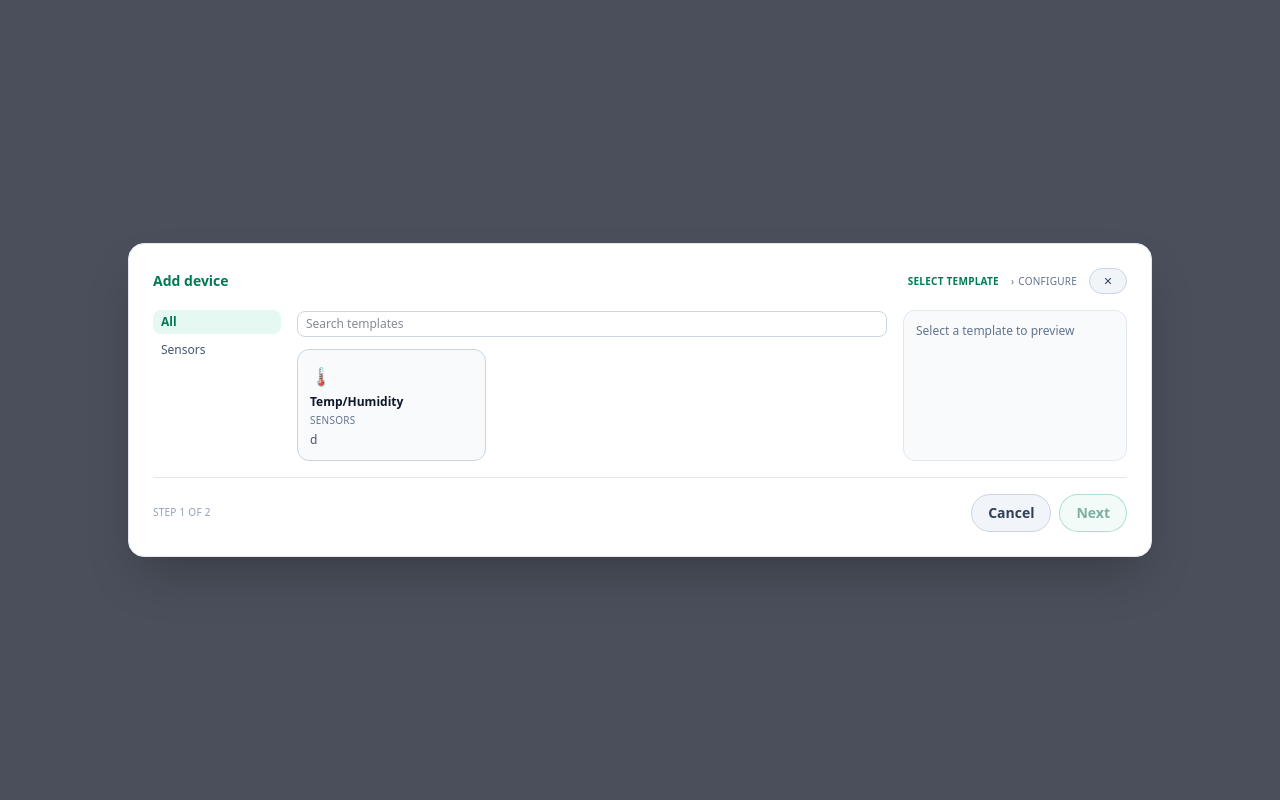
Test: AddDeviceModal wizard › blocks Create in configure when the name is cleared
This screenshot has width=1280, height=800.
Click the text "Temp/Humidity": (357, 402) [310, 393, 403, 410]
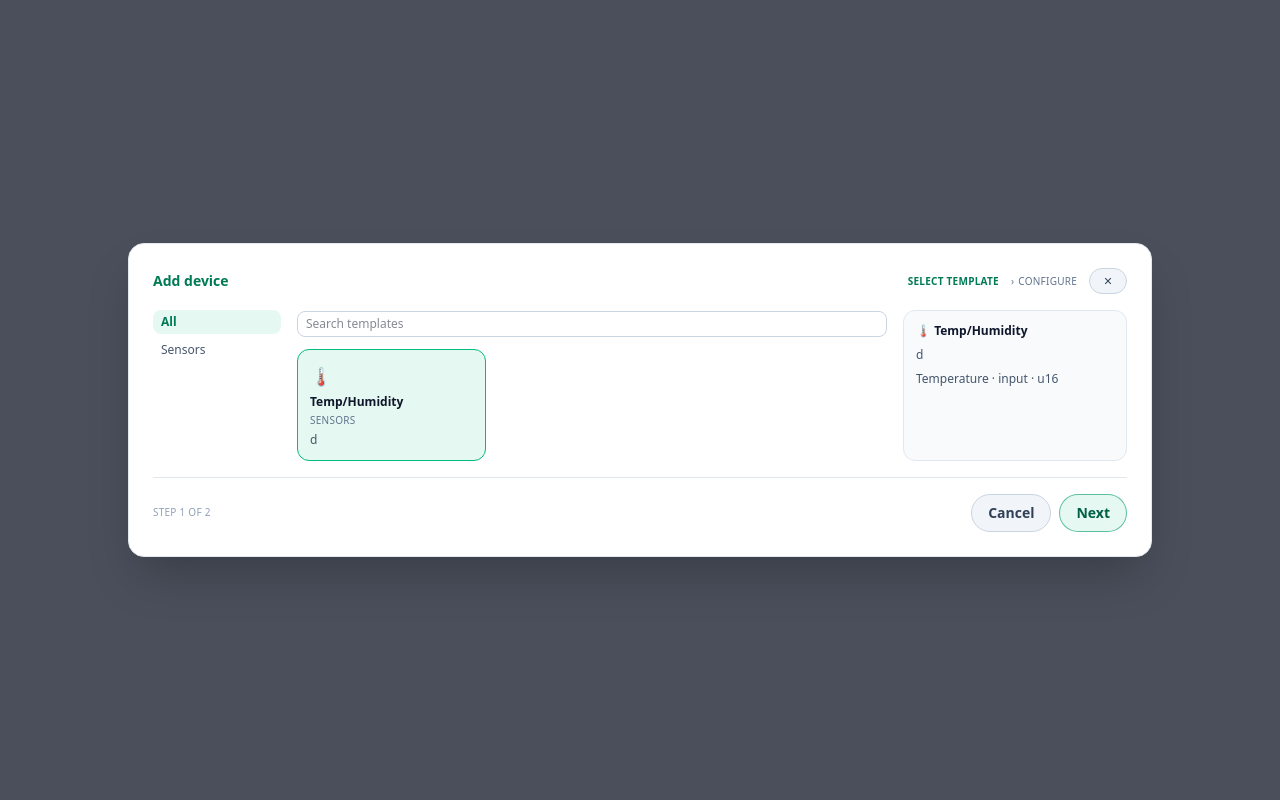
Click the button "Next": (1093, 513) [1060, 494, 1127, 532]
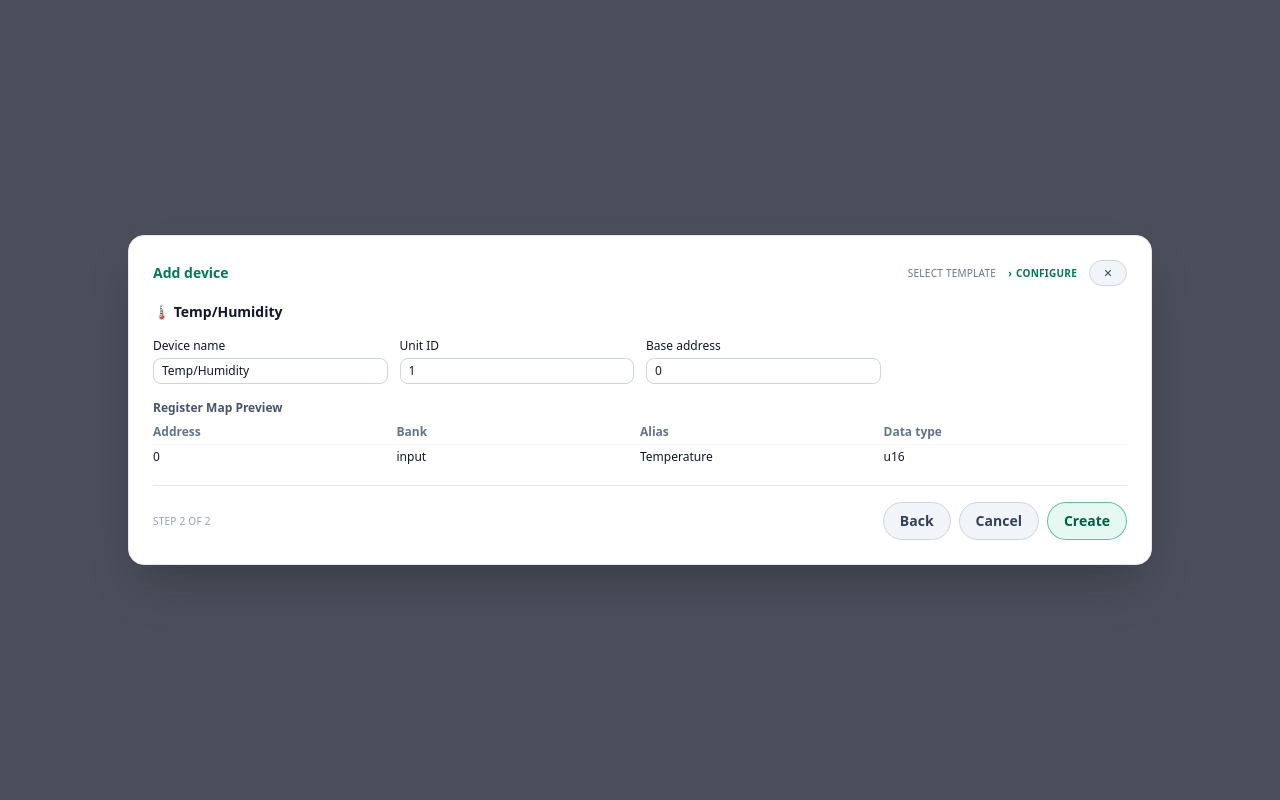
Clear the field labelled "Device name": (270, 371) [153, 358, 388, 384]
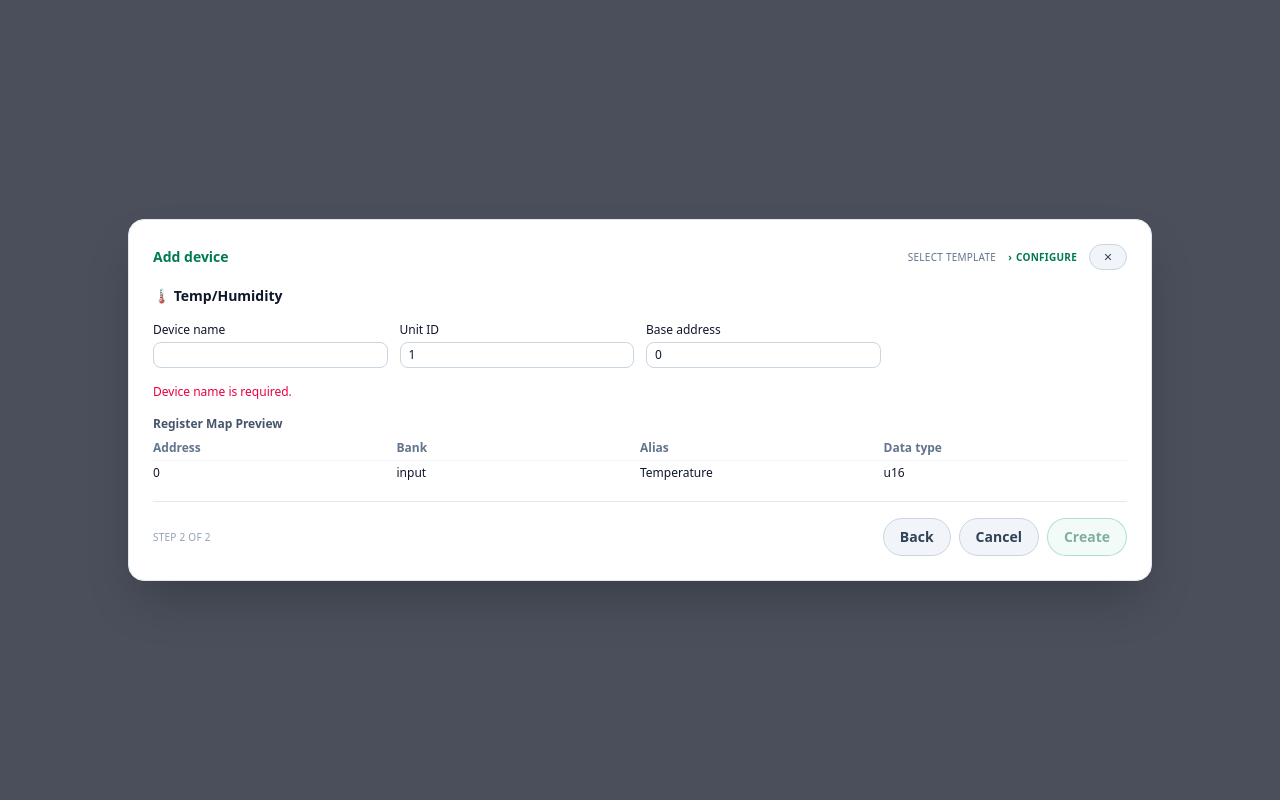
Check: the button "Create" is disabled, box [1047, 518, 1127, 556]
Check: the text "Device name is required." is shown, box [153, 383, 292, 400]
